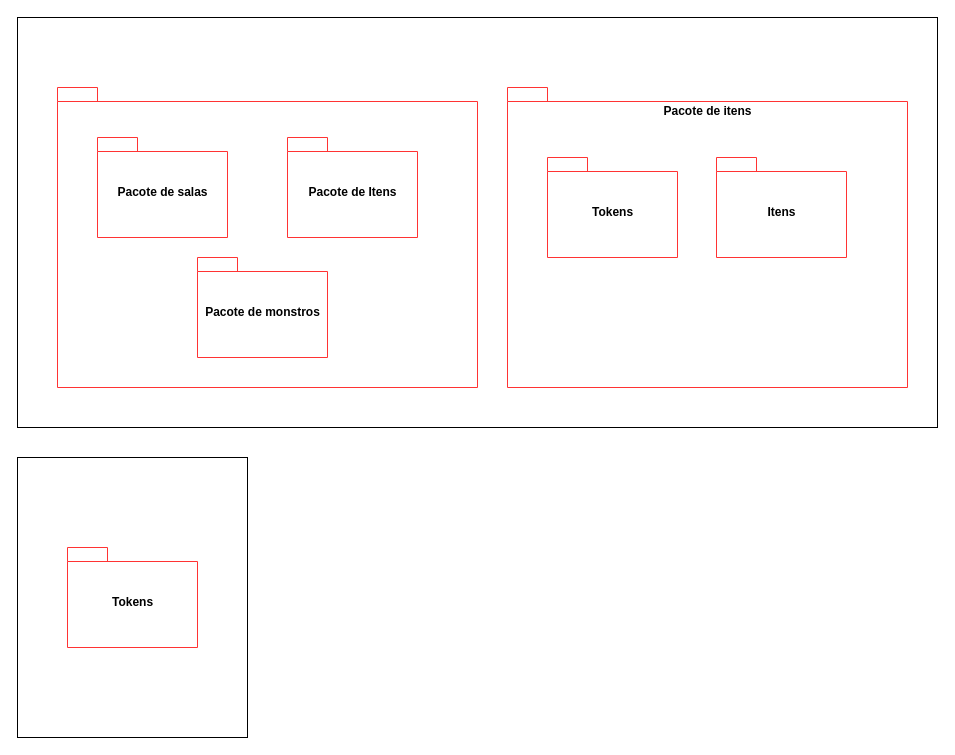
This 955x755 diagram has some shape labels left out. Each missing label, with the box of its shape:
Inicialização do sistema: (16, 16, 938, 428)
Pacote de inicialização: (56, 86, 478, 388)
Registro: (16, 456, 248, 738)
